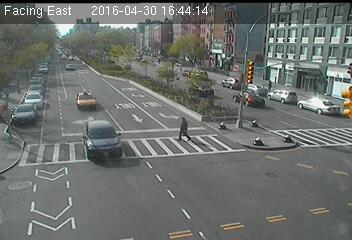neg: (180, 35, 205, 68), (60, 60, 84, 93), (188, 77, 209, 105), (114, 56, 134, 83), (154, 68, 173, 93), (155, 49, 167, 64)
pos: (2, 117, 23, 144), (173, 115, 192, 141), (265, 77, 278, 95)
